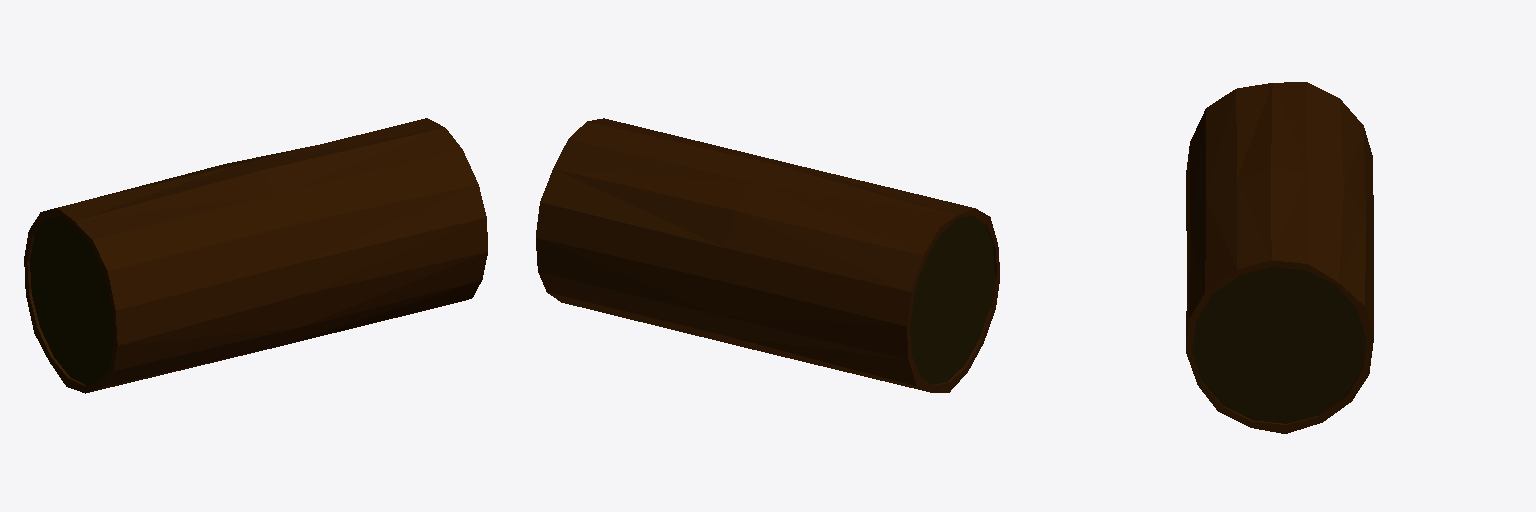
File: Log.obj
3 renders of one model, left to right at view 1: azimuth 30°, elevation 25°; view 2: azimuth 150°, elevation 25°; view 3: azimuth 270°, elevation 25°, orthographic.
Visible parts, largest first — view 1: LogStockpile_Cylinder.002; view 2: LogStockpile_Cylinder.002; view 3: LogStockpile_Cylinder.002.
Boxes of the visible parts, x1,y1,x2,y2 form: LogStockpile_Cylinder.002: [24, 118, 487, 393]; LogStockpile_Cylinder.002: [536, 118, 999, 392]; LogStockpile_Cylinder.002: [1186, 82, 1373, 433].
Bounding box in the file's own units: 0.3618 × 0.1654 × 0.1592.